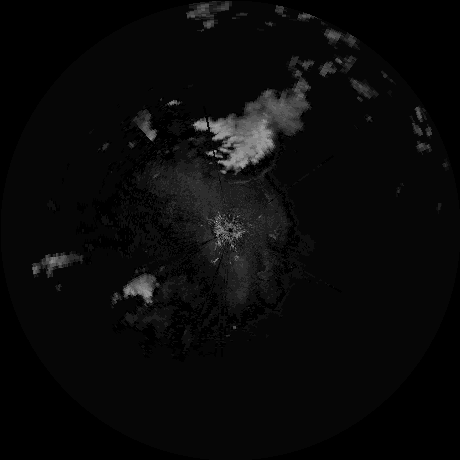frontgust: (228, 160, 278, 185)
